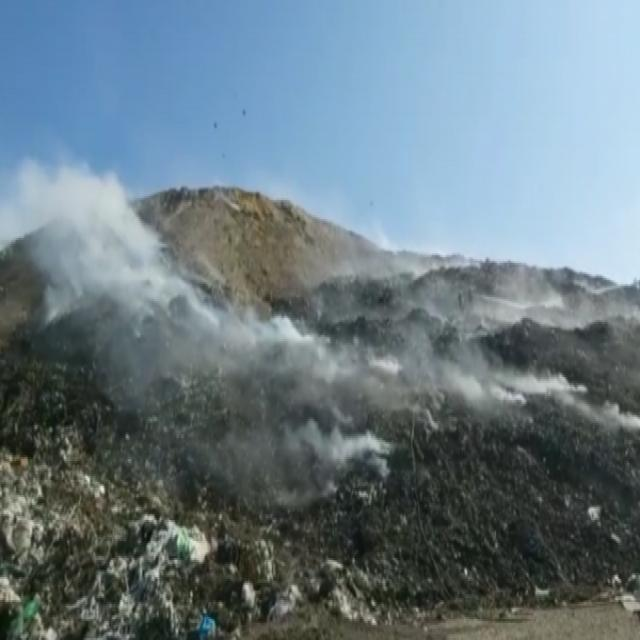Smoke: (293, 280, 636, 488), (14, 152, 269, 420)
